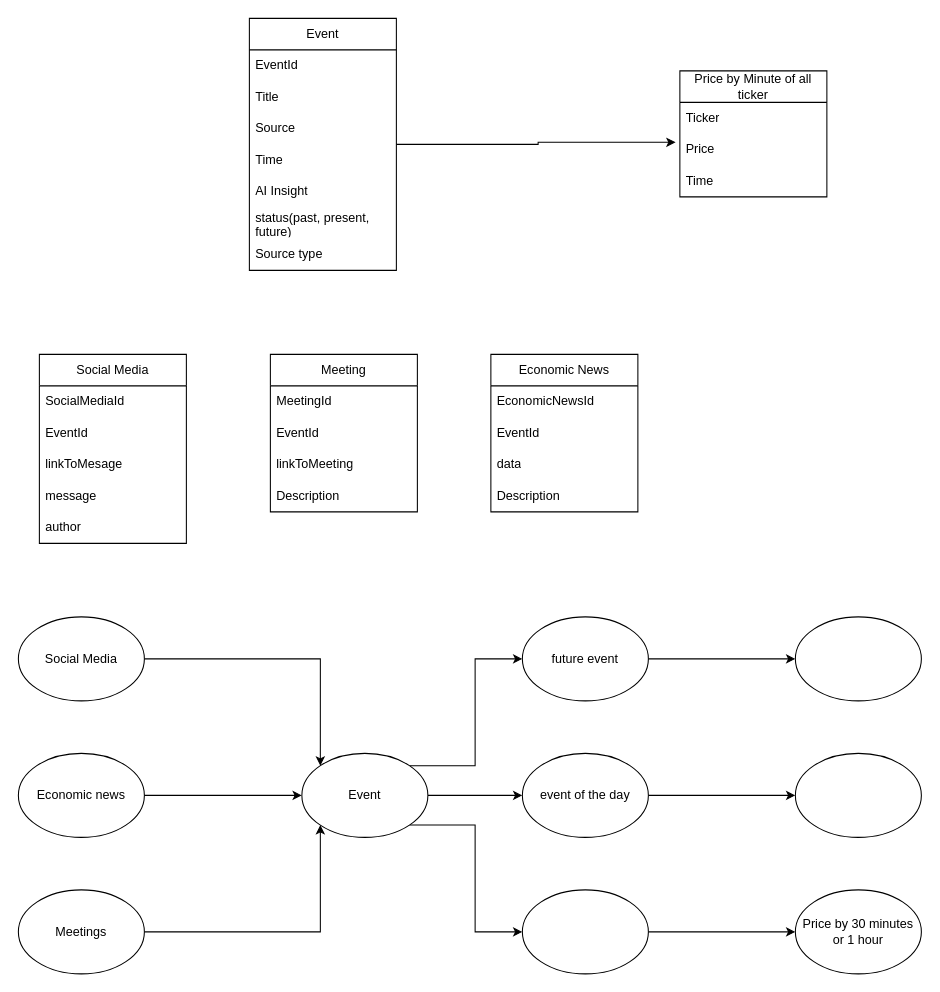
This 940x992 diagram has some shape labels left out. Here are the shapes that lost their labels. From the top down, the centre of each, then its label:
point (857, 658): Alert
point (857, 794): Price update every minute until 30 min or 1 hour
point (584, 931): past event
